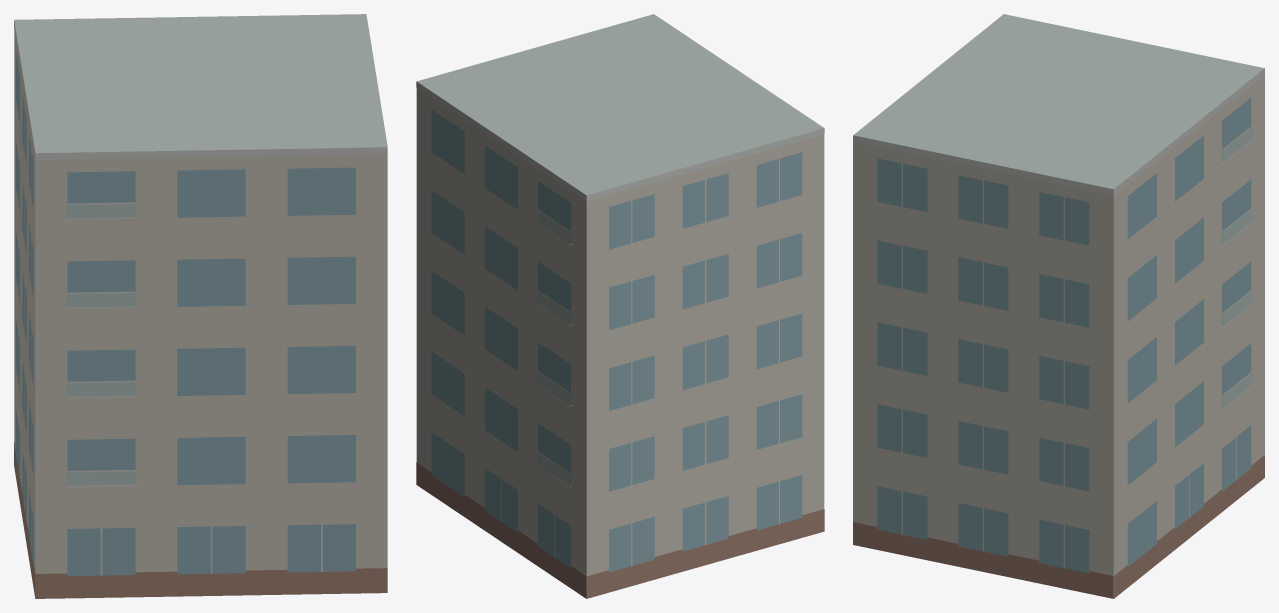
The model's file is survey-upis-32884946.glb.
3 renders of one model, left to right at view 1: azimuth 30°, elevation 25°; view 2: azimuth 150°, elevation 25°; view 3: azimuth 270°, elevation 25°, orthographic. The views are drawn at different scales.
Parts seen in each view (by area): view 1: survey-upis-32884946.tmp; view 2: survey-upis-32884946.tmp; view 3: survey-upis-32884946.tmp.
Part boxes in pixels (x1,y1,x2,y2): survey-upis-32884946.tmp: (14, 14, 387, 598); survey-upis-32884946.tmp: (416, 14, 824, 598); survey-upis-32884946.tmp: (853, 14, 1264, 598).
Bounding box in the file's own units: 14.6 × 15.9 × 14.49.
